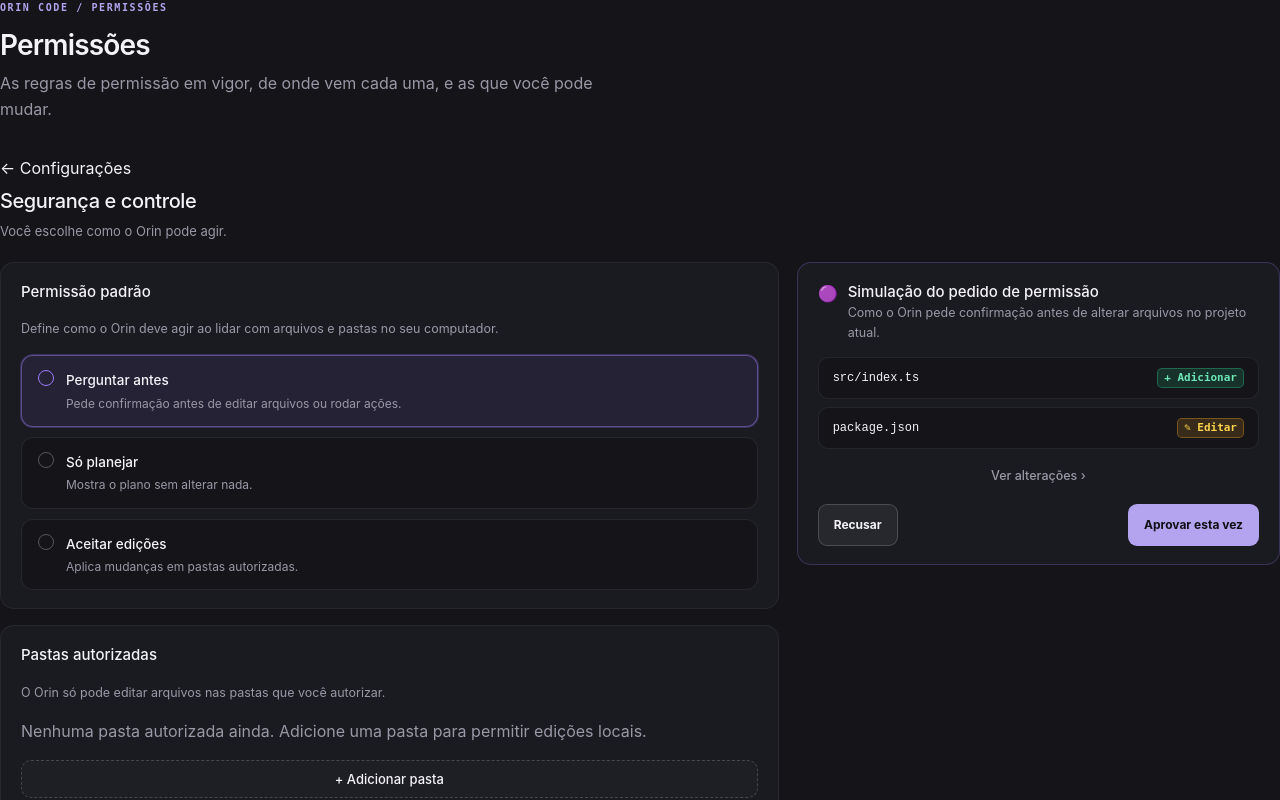
Phase 7 — ref-15.png: Segurança e controle (PermissionsSection) › switches default permission modes, saves to localStorage + code-mode API, and supports Cancelar
The image size is (1280, 800).
Step 1. Click the radio button with test id "security-perm-accept" → (116, 544), box [21,519,758,590]
(page scrolled)
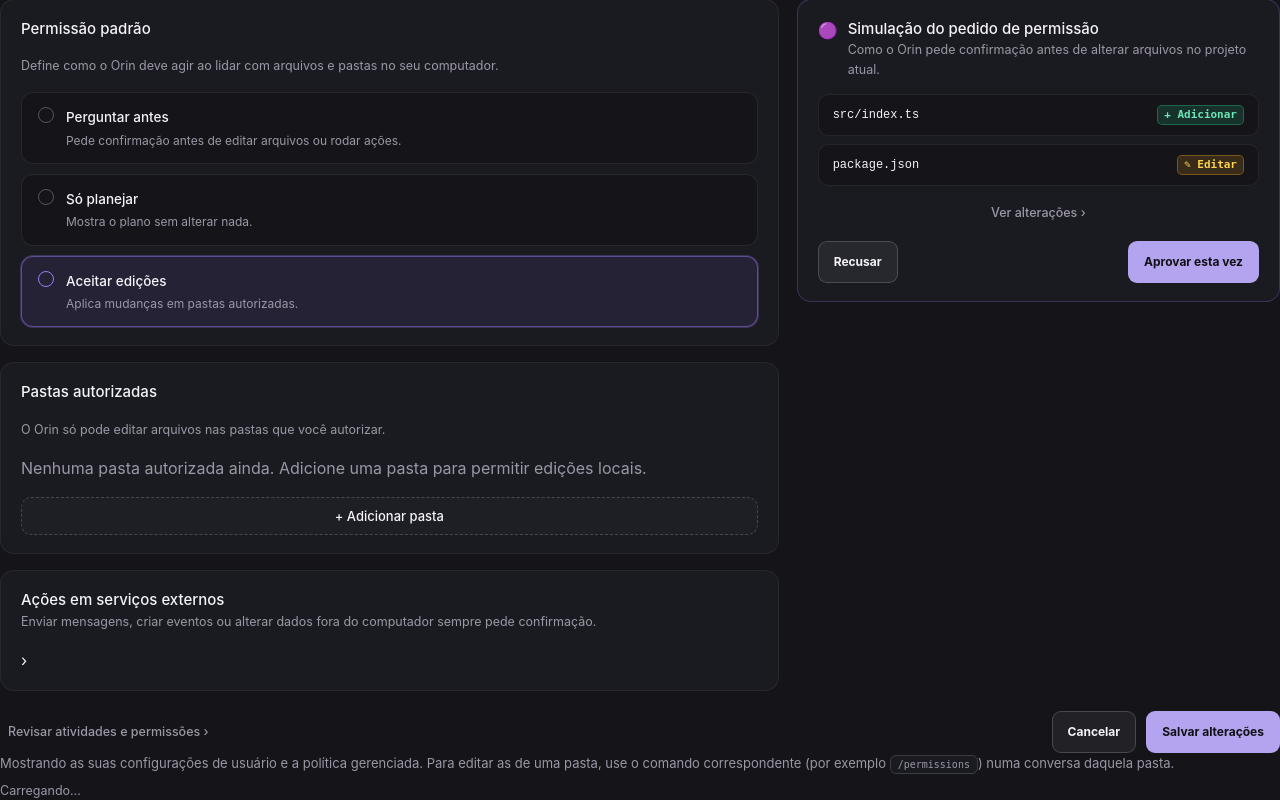
Now the radio button with test id "security-perm-accept" is checked, box [21,256,758,327]
Step 2. Click the button with test id "security-cancel-btn" → (1094, 732), box [1052,711,1136,753]
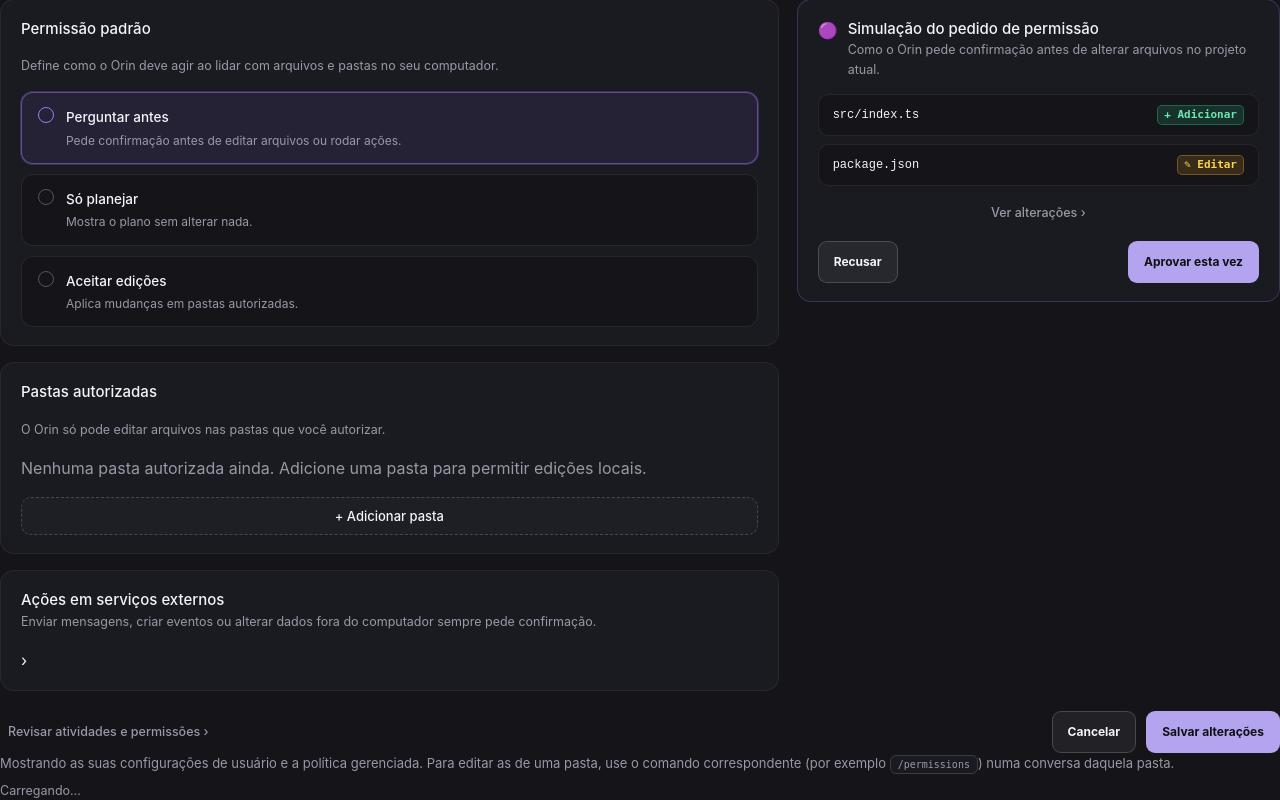
Now the radio button with test id "security-perm-ask" is checked, box [21,92,758,164]
Note: Select "Só planejar" and save
Step 3. Click the radio button with test id "security-perm-plan" → (102, 199), box [21,174,758,246]
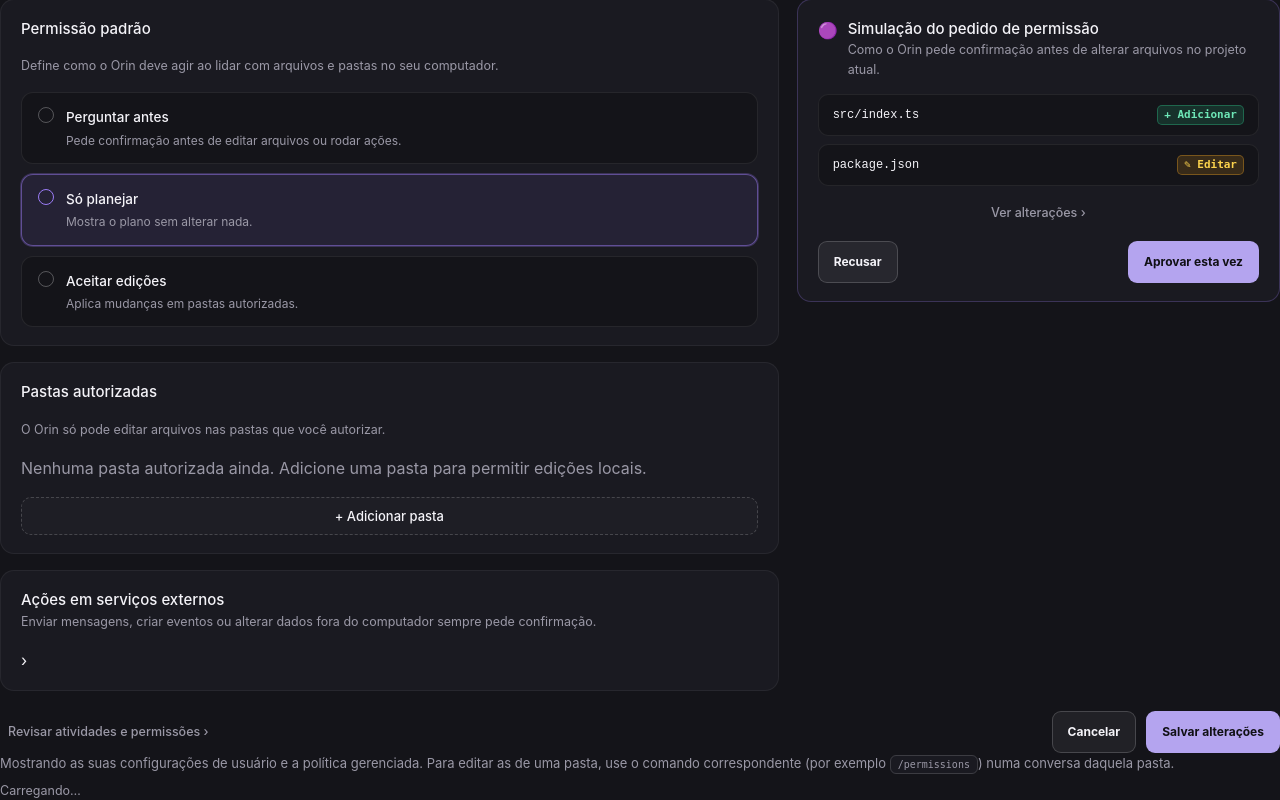
Now the radio button with test id "security-perm-plan" is checked, box [21,174,758,246]
Step 4. Click the button with test id "security-save-btn" → (1213, 732), box [1146,711,1279,753]
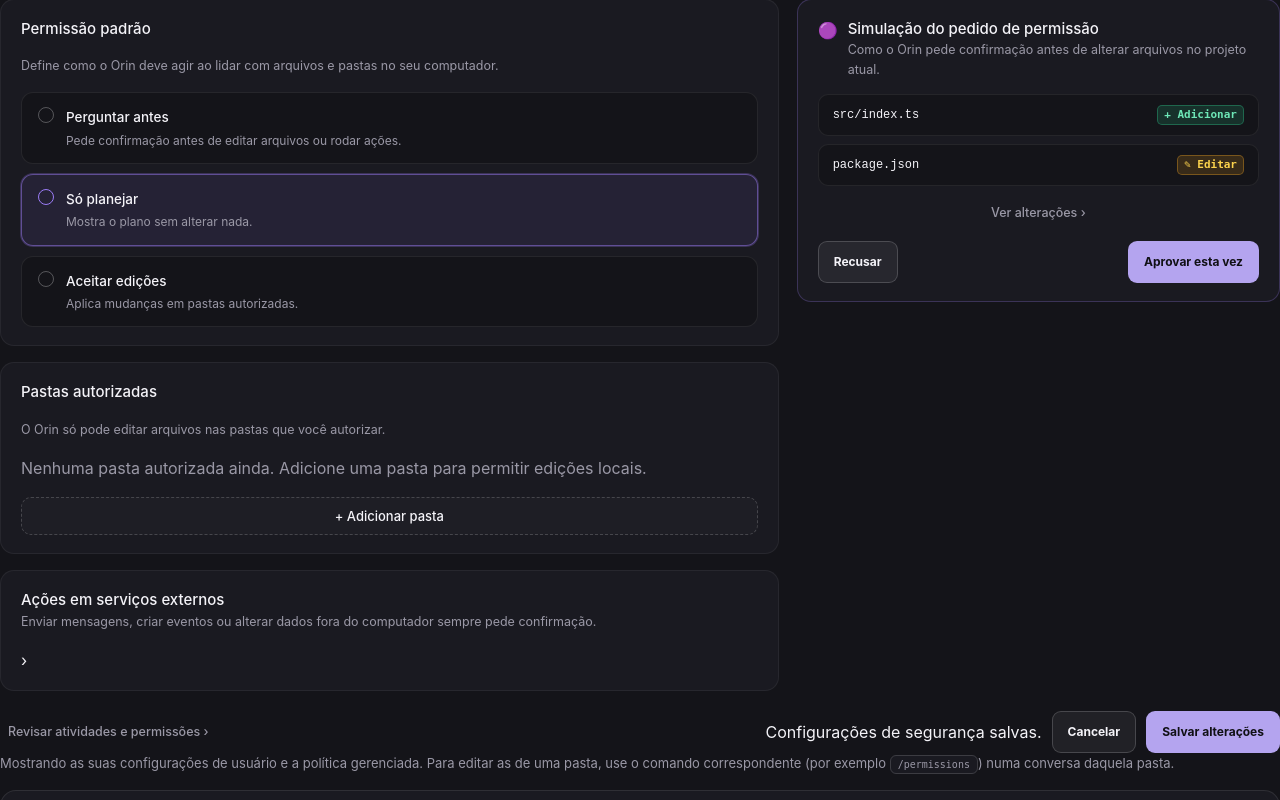
Now the message with test id "security-saved-notice" reads "Configurações de segurança salvas.", box [766,722,1042,742]
